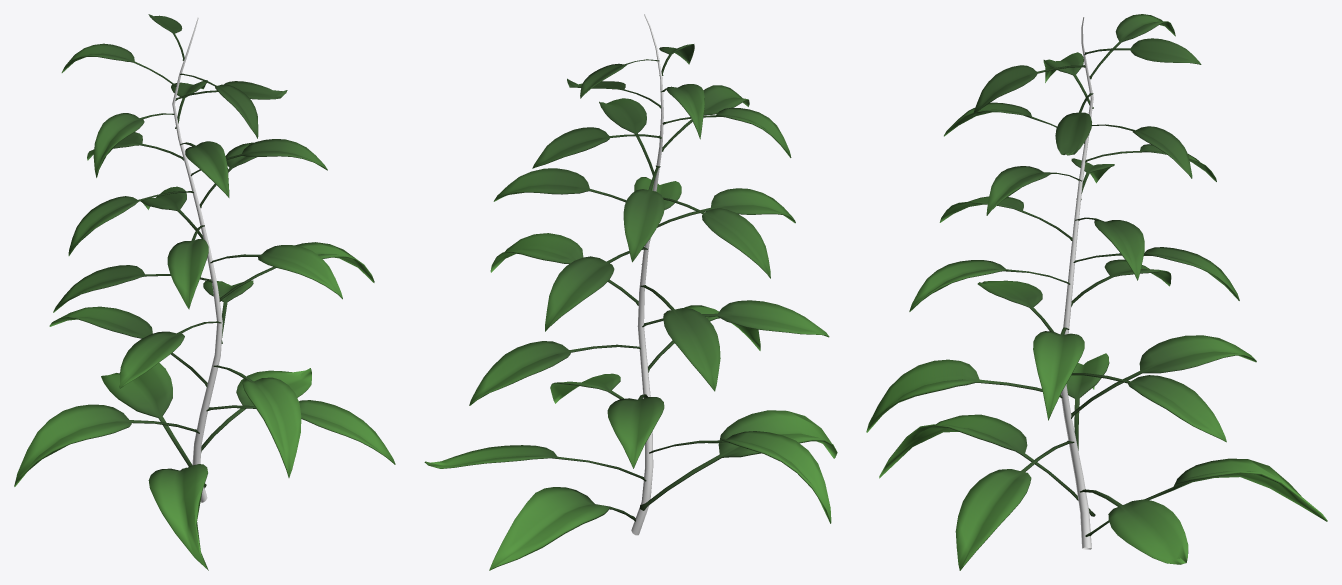
Rendered from MSH_Planta 1.fbx.
The picture shows the model from 3 angles, left to right: view 1: azimuth 30°, elevation 25°; view 2: azimuth 150°, elevation 25°; view 3: azimuth 270°, elevation 25°; orthographic projection. The views are drawn at different scales.
Visible parts, largest first — view 1: Planta; view 2: Planta; view 3: Planta.
Boxes of the visible parts, left/top/right/bottom form: Planta: left=14, top=14, right=395, bottom=570; Planta: left=424, top=14, right=837, bottom=570; Planta: left=866, top=14, right=1327, bottom=570.
Size of the model in its own units: 191 by 262 by 207.
